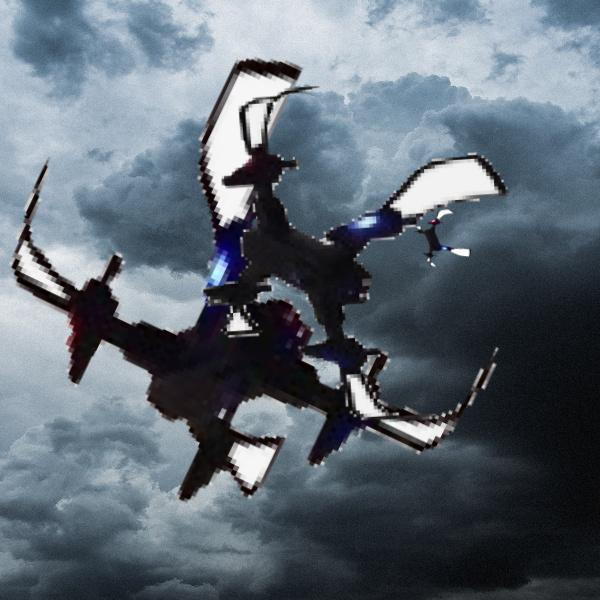drone: (13, 33, 525, 545), (187, 76, 551, 440), (411, 208, 474, 271)
